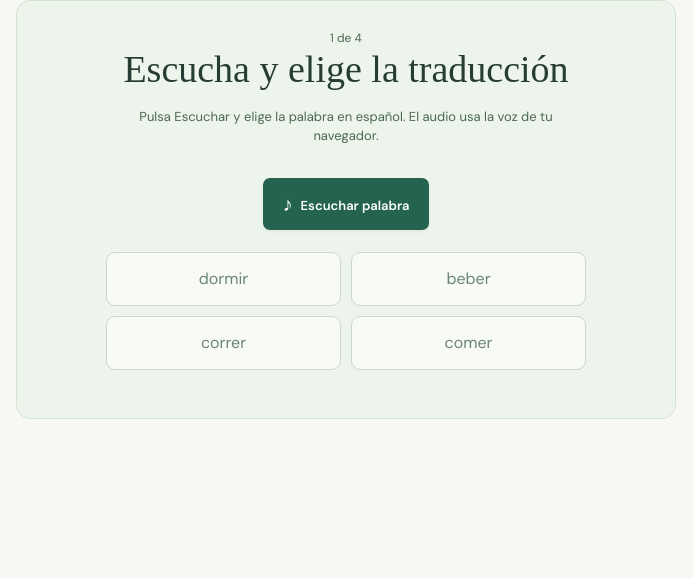
pronuncia la palabra estudiada y corrige la opción sin revelarla antes
Expected: the text "sleep" is not shown
Expected: the button "dormir" is disabled, 106,252 -> 341,306
Click the button "♪ Escuchar palabra". click: (346, 204)
box: 263,178 -> 429,230
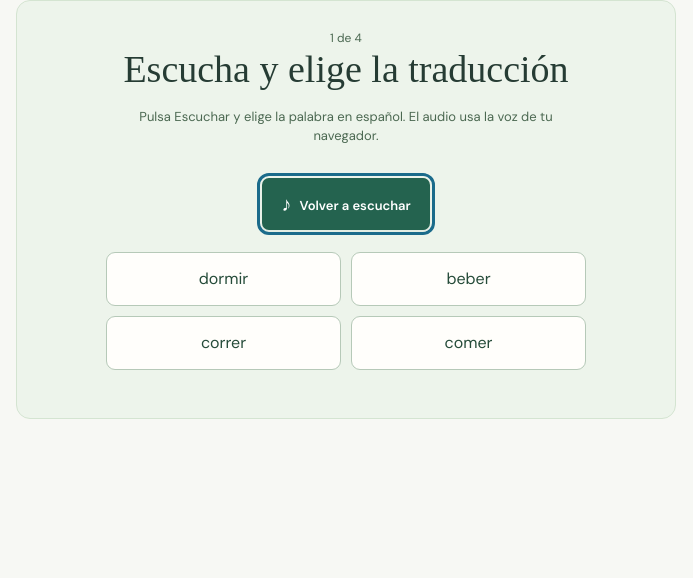
Expected: the text "sleep" is not shown
Click the button "beber". click: (468, 279)
box: 351,252 -> 586,306
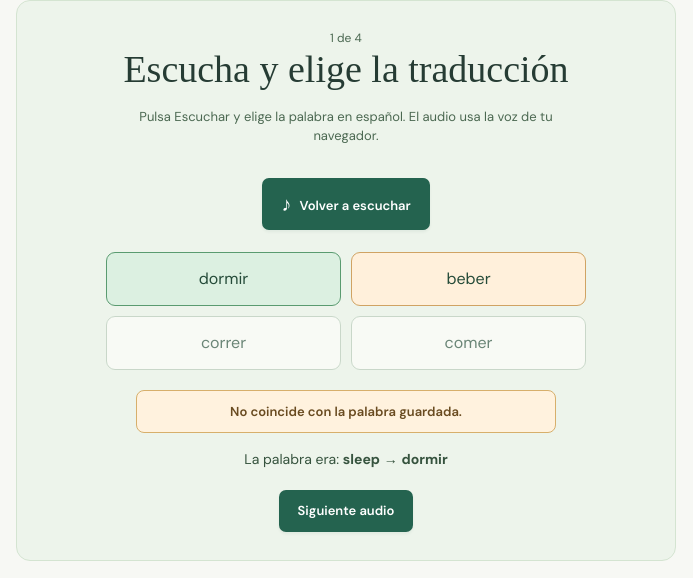
Now the message shows "No coincide", box 230,403 -> 462,420
Now the text "sleep" is shown, box 343,450 -> 380,468
Click the button "Siguiente audio". click: (346, 511)
box: 279,490 -> 413,532
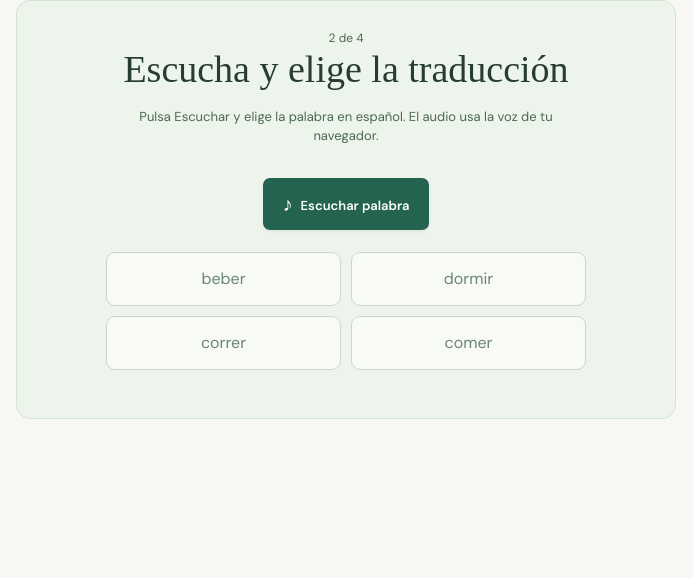
Now the text "sleep" is gone
Now the text "2 de 4" is shown, box 328,30 -> 363,46
